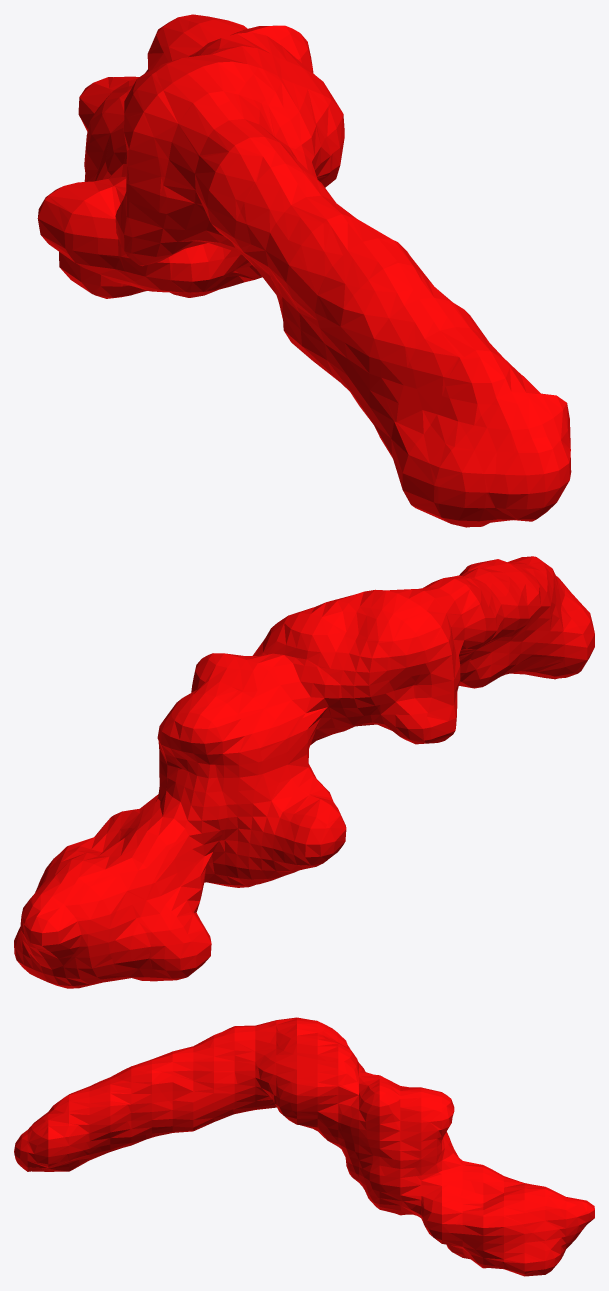
The model's file is macA_coarse.dae.
The picture shows the model from 3 angles, top to bottom: view 1: azimuth 30°, elevation 25°; view 2: azimuth 150°, elevation 25°; view 3: azimuth 270°, elevation 25°; orthographic projection. The views are drawn at different scales.
Parts seen in each view (by area): view 1: macA; view 2: macA; view 3: macA.
Part boxes in pixels (x1=…): macA: x1=37, y1=14, x2=571, y2=527; macA: x1=14, y1=556, x2=594, y2=988; macA: x1=14, y1=1017, x2=594, y2=1276.
Size of the model in its own units: 55.46 by 60.49 by 157.
